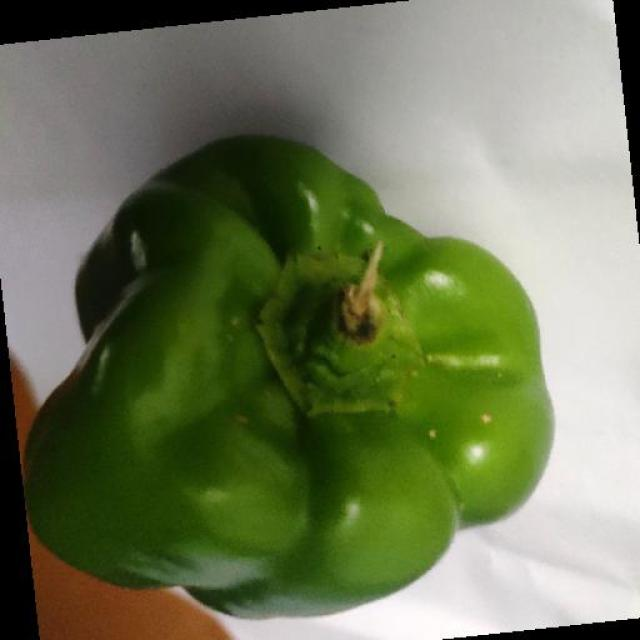Fresh_Capsicum: (78, 169, 508, 640)
